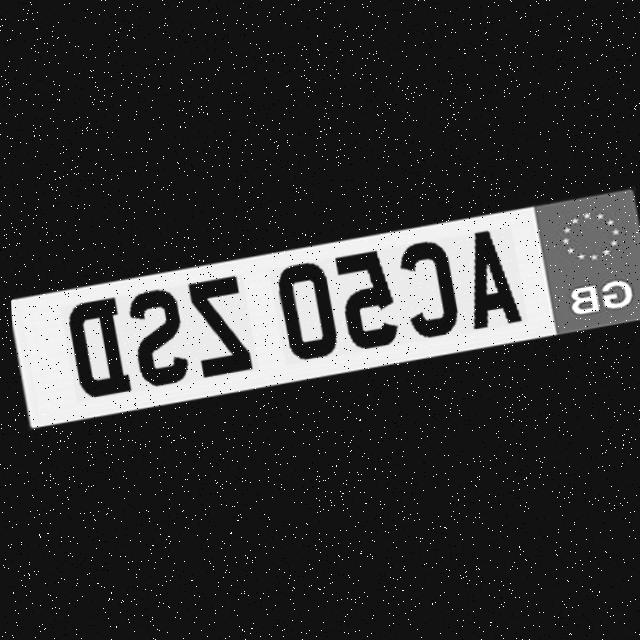license-plates: (11, 191, 640, 427)
